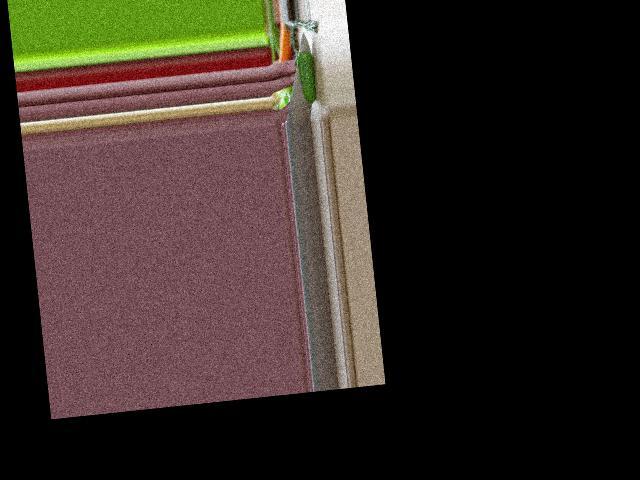cucumber: (296, 49, 318, 104)
